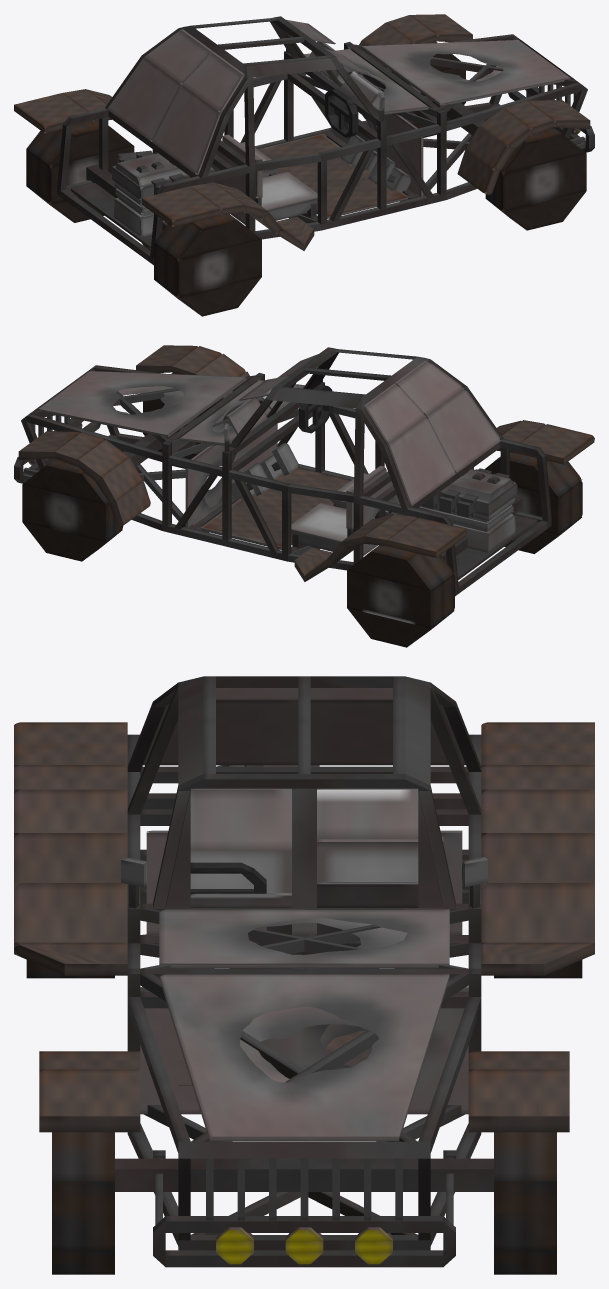
File: buggy.obj
3 renders of one model, top to bottom at view 1: azimuth 30°, elevation 25°; view 2: azimuth 150°, elevation 25°; view 3: azimuth 270°, elevation 25°, orthographic. The views are drawn at different scales.
Parts seen in each view (by area): view 1: bodyModel39, leftBackWheelModel1, bodyModel37, leftFrontWheelModel0, bodyModel194, bodyModel195, leftBackWheelModel2, rightBackWheelModel2, rightBackWheelModel1, bodyModel192, bodyModel89, bodyModel193 (+62 smaller); view 2: bodyModel39, rightBackWheelModel1, bodyModel37, rightFrontWheelModel0, bodyModel195, bodyModel194, rightBackWheelModel2, bodyModel204, bodyModel193, leftBackWheelModel2, bodyModel95, bodyModel192 (+61 smaller); view 3: bodyModel39, bodyModel98, bodyModel196, bodyModel204, bodyModel85, bodyModel91, bodyModel79, bodyModel84, bodyModel178, bodyModel194, bodyModel195, bodyModel86 (+61 smaller).
Part boxes in pixels (x1=…): bodyModel39: x1=361, y1=40, x2=570, y2=106; leftBackWheelModel1: x1=154, y1=231, x2=261, y2=297; bodyModel37: x1=258, y1=133, x2=408, y2=218; leftFrontWheelModel0: x1=485, y1=153, x2=586, y2=211; bodyModel194: x1=152, y1=85, x2=221, y2=174; bodyModel195: x1=107, y1=57, x2=182, y2=141; leftBackWheelModel2: x1=154, y1=214, x2=261, y2=259; rightBackWheelModel2: x1=26, y1=121, x2=133, y2=166; rightBackWheelModel1: x1=26, y1=137, x2=134, y2=203; bodyModel192: x1=182, y1=52, x2=244, y2=112; bodyModel89: x1=141, y1=186, x2=220, y2=226; bodyModel193: x1=144, y1=29, x2=213, y2=84; bodyModel39: x1=38, y1=371, x2=247, y2=437; rightBackWheelModel1: x1=347, y1=570, x2=454, y2=628; bodyModel37: x1=200, y1=467, x2=350, y2=549; rightFrontWheelModel0: x1=22, y1=484, x2=123, y2=542; bodyModel195: x1=387, y1=415, x2=456, y2=505; bodyModel194: x1=426, y1=387, x2=501, y2=472; rightBackWheelModel2: x1=347, y1=545, x2=454, y2=590; bodyModel204: x1=185, y1=423, x2=277, y2=527; bodyModel193: x1=364, y1=383, x2=426, y2=443; leftBackWheelModel2: x1=485, y1=452, x2=582, y2=497; bodyModel95: x1=388, y1=517, x2=467, y2=557; bodyModel192: x1=395, y1=360, x2=464, y2=415; bodyModel39: x1=159, y1=974, x2=449, y2=1141; bodyModel98: x1=159, y1=909, x2=449, y2=968; bodyModel196: x1=115, y1=1158, x2=493, y2=1191; bodyModel204: x1=140, y1=986, x2=468, y2=1114; bodyModel85: x1=14, y1=883, x2=127, y2=954; bodyModel91: x1=481, y1=883, x2=594, y2=944; bodyModel79: x1=39, y1=1069, x2=140, y2=1132; bodyModel84: x1=468, y1=1069, x2=569, y2=1132; bodyModel178: x1=190, y1=788, x2=291, y2=850; bodyModel194: x1=143, y1=700, x2=298, y2=765; bodyModel195: x1=310, y1=700, x2=465, y2=765; bodyModel86: x1=14, y1=833, x2=127, y2=882.
Bounding box in the file's own units: 77.5 × 30.8 × 46.
